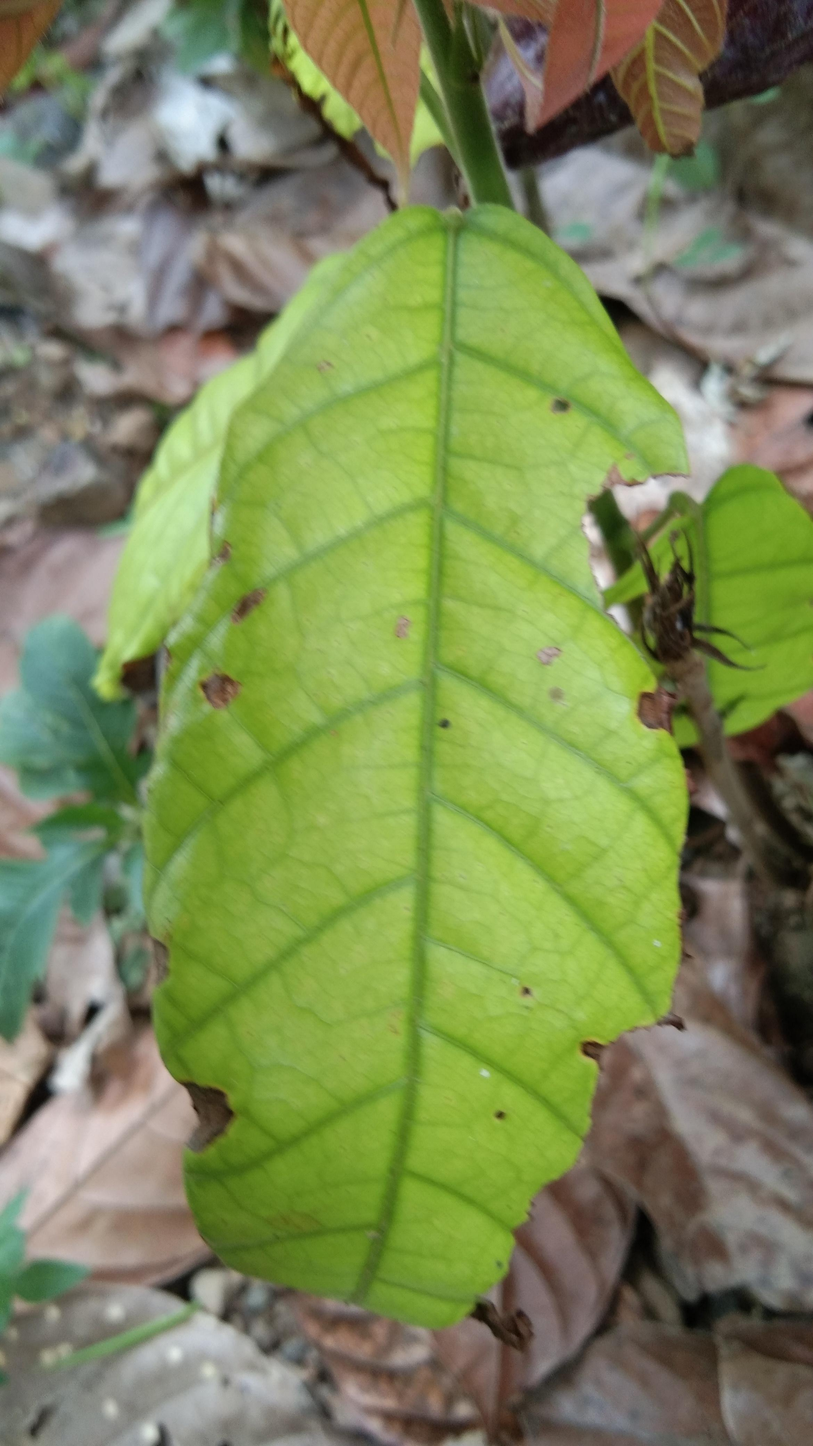deficiencia_potasio: (146, 195, 691, 1324)
